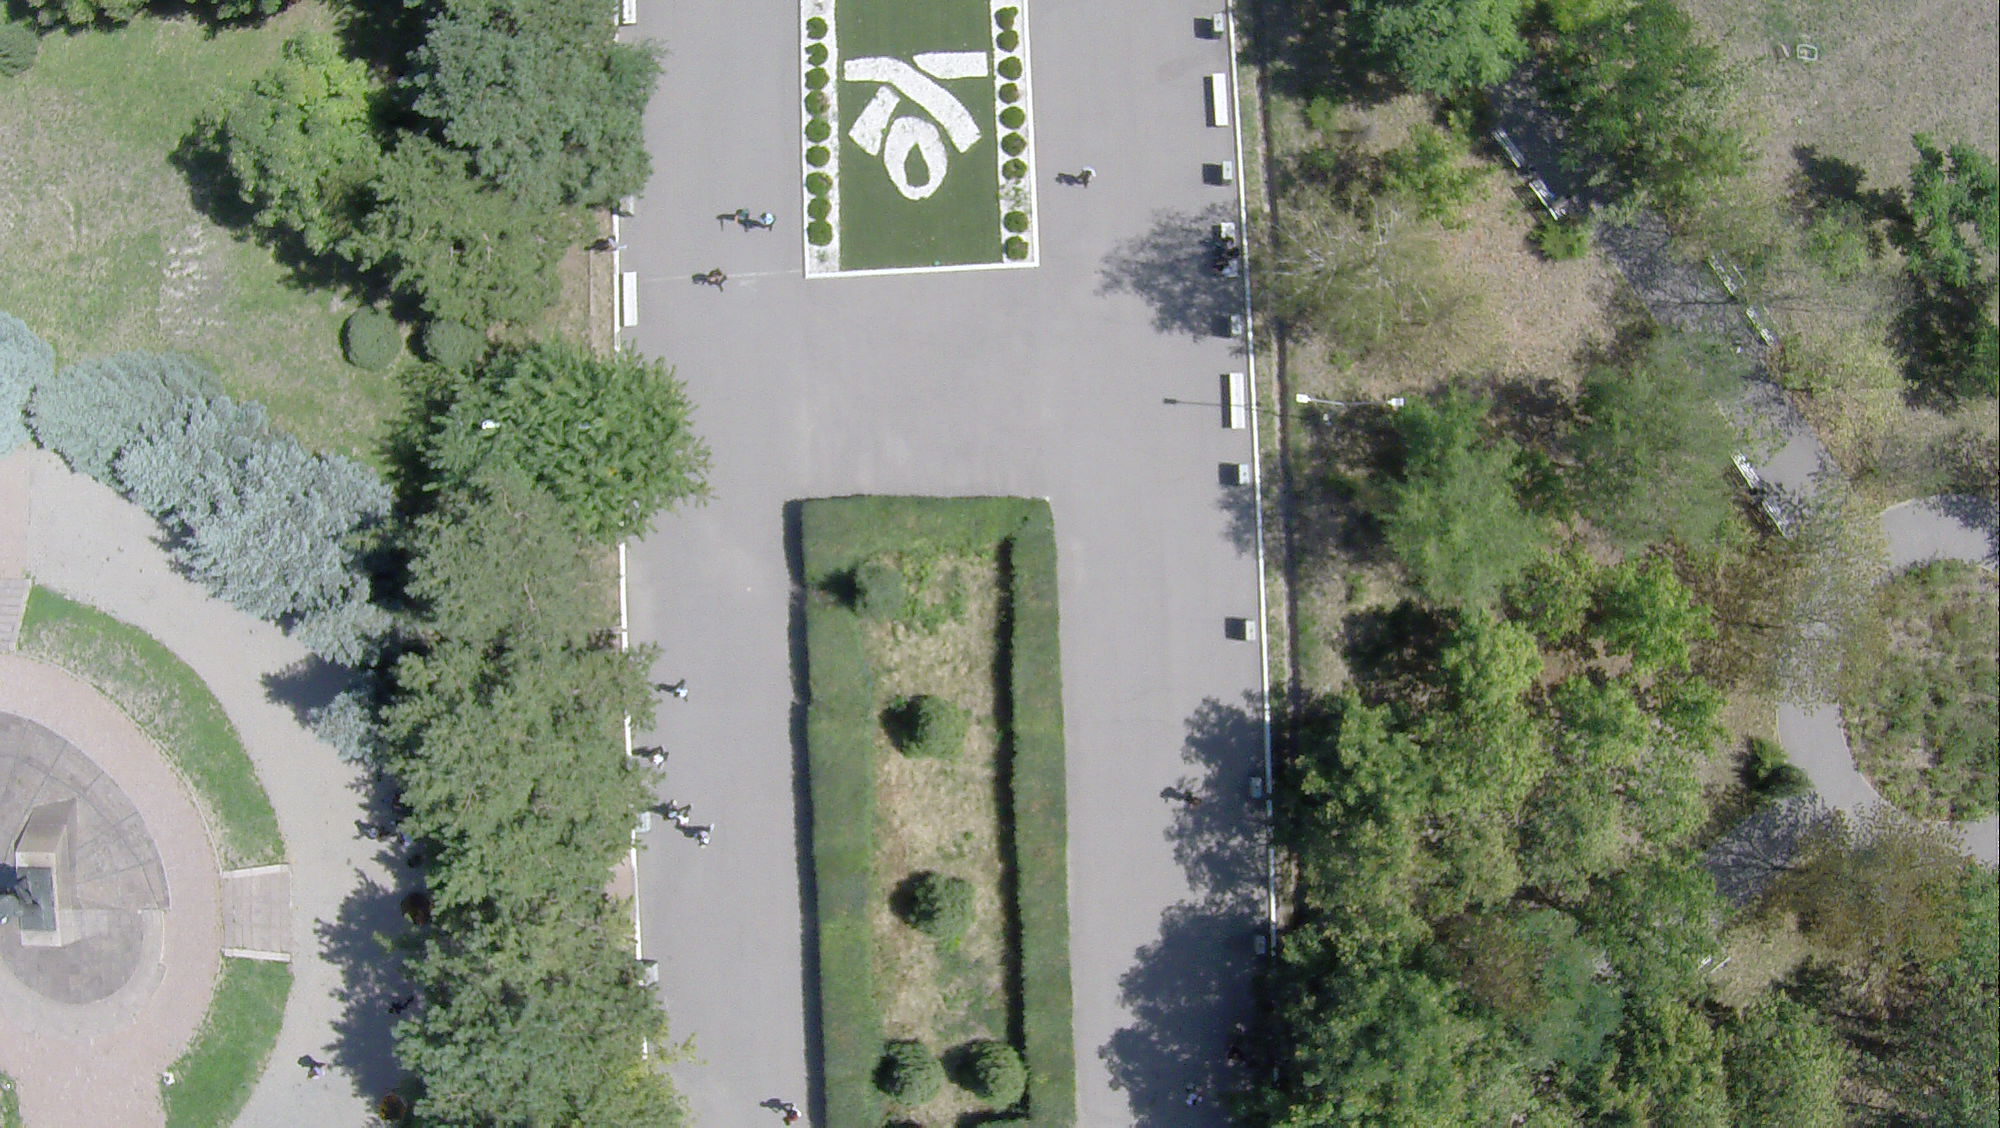person: (592, 235, 627, 251), (734, 206, 754, 234), (649, 748, 669, 770), (757, 210, 778, 231), (782, 1103, 802, 1124), (1079, 166, 1097, 189), (705, 270, 725, 290), (696, 831, 714, 850), (662, 802, 680, 821), (677, 811, 693, 829), (674, 685, 693, 701)
